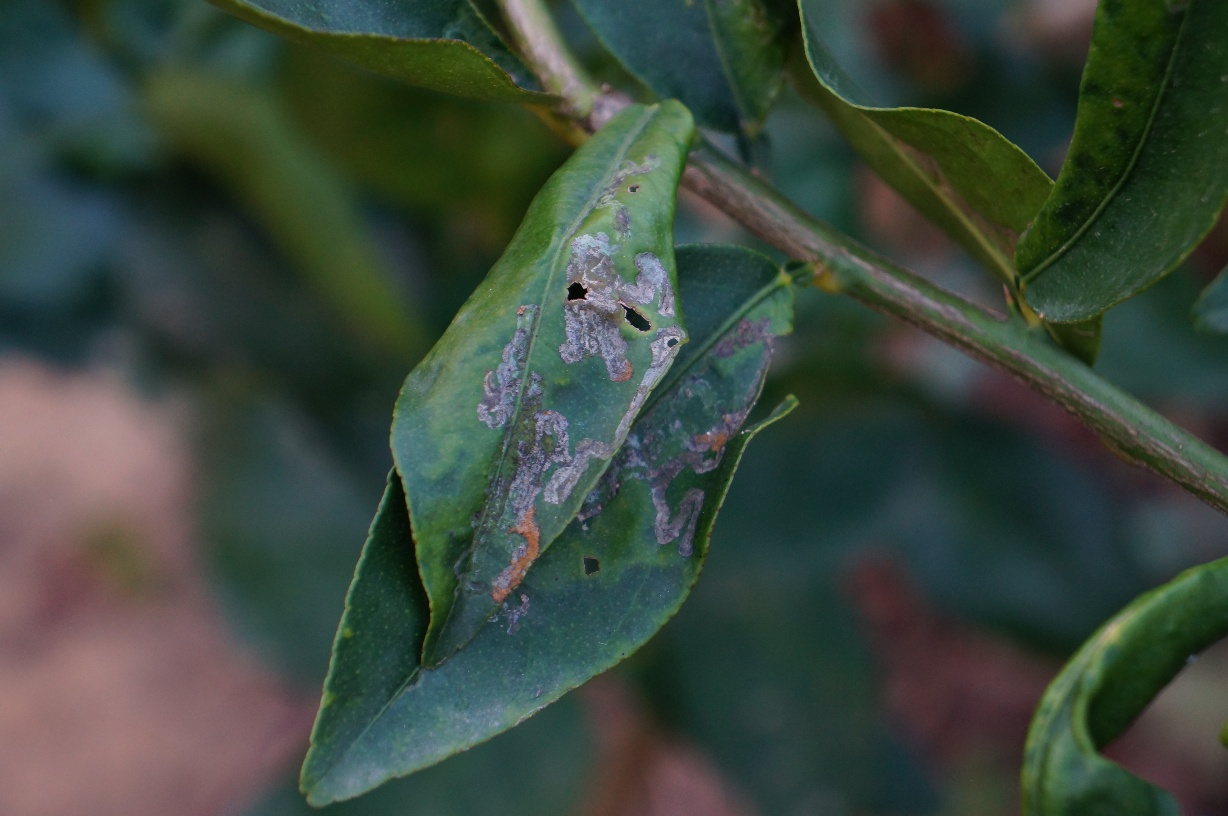damage: (442, 145, 691, 637), (479, 300, 792, 646)
